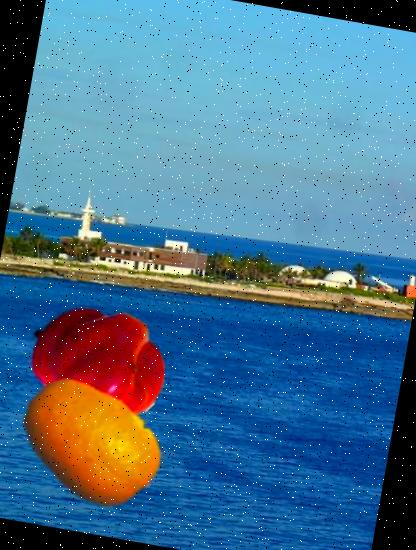Kumquats: (8, 358, 175, 525)
Pepper: (22, 284, 178, 440)
